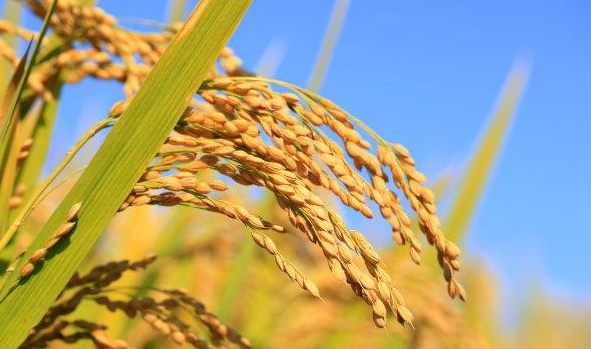rice: (37, 5, 478, 340)
